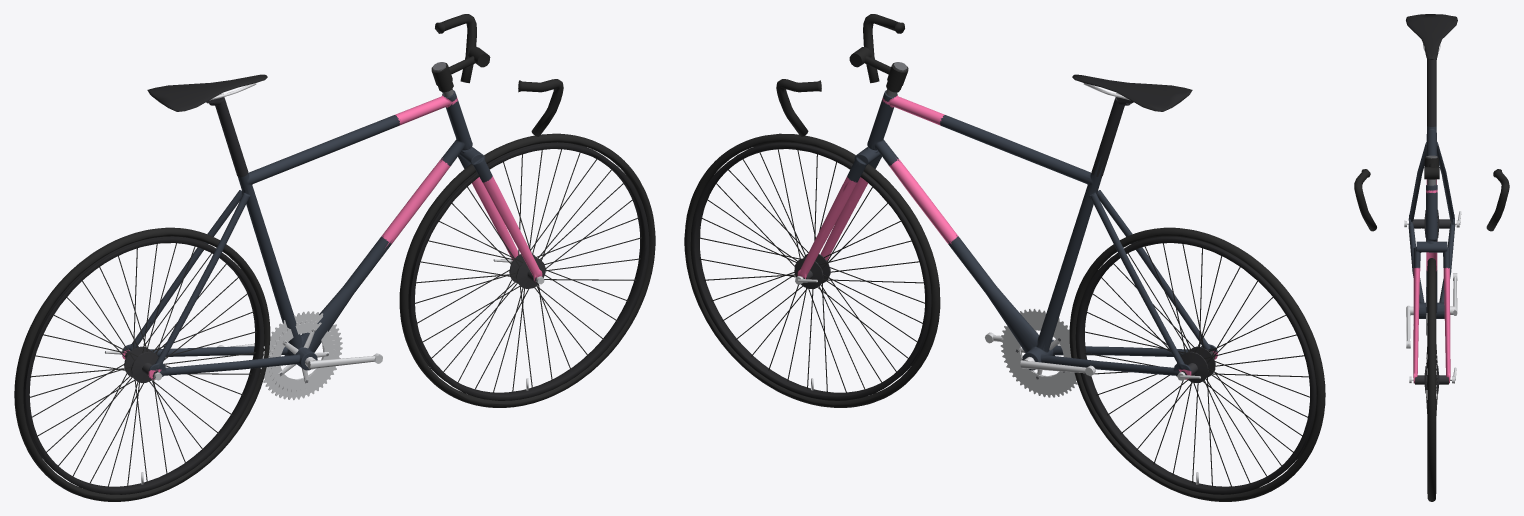
File: bike_lite.glb
3 renders of one model, left to right at view 1: azimuth 30°, elevation 25°; view 2: azimuth 150°, elevation 25°; view 3: azimuth 270°, elevation 25°, orthographic. The views are drawn at different scales.
Visible parts, largest first — view 1: dropbar, fork, saddle, tyre_front; view 2: dropbar, fork, saddle, tyre_front; view 3: fork, dropbar, tyre_front, saddle.
Part boxes in pixels (x1,y1,x2,y2): dropbar: [30, 14, 641, 486]; fork: [122, 90, 542, 379]; saddle: [23, 74, 649, 494]; tyre_front: [14, 133, 655, 501]; dropbar: [698, 14, 1309, 486]; fork: [797, 90, 1217, 379]; saddle: [690, 74, 1316, 494]; tyre_front: [684, 133, 1325, 501]; fork: [1408, 126, 1455, 383]; dropbar: [1354, 44, 1509, 415]; tyre_front: [1427, 258, 1435, 501]; saddle: [1406, 14, 1457, 493].
Size of the model in its own units: 1.68 by 0.9885 by 0.4256.
5 materials, 5 textured.
